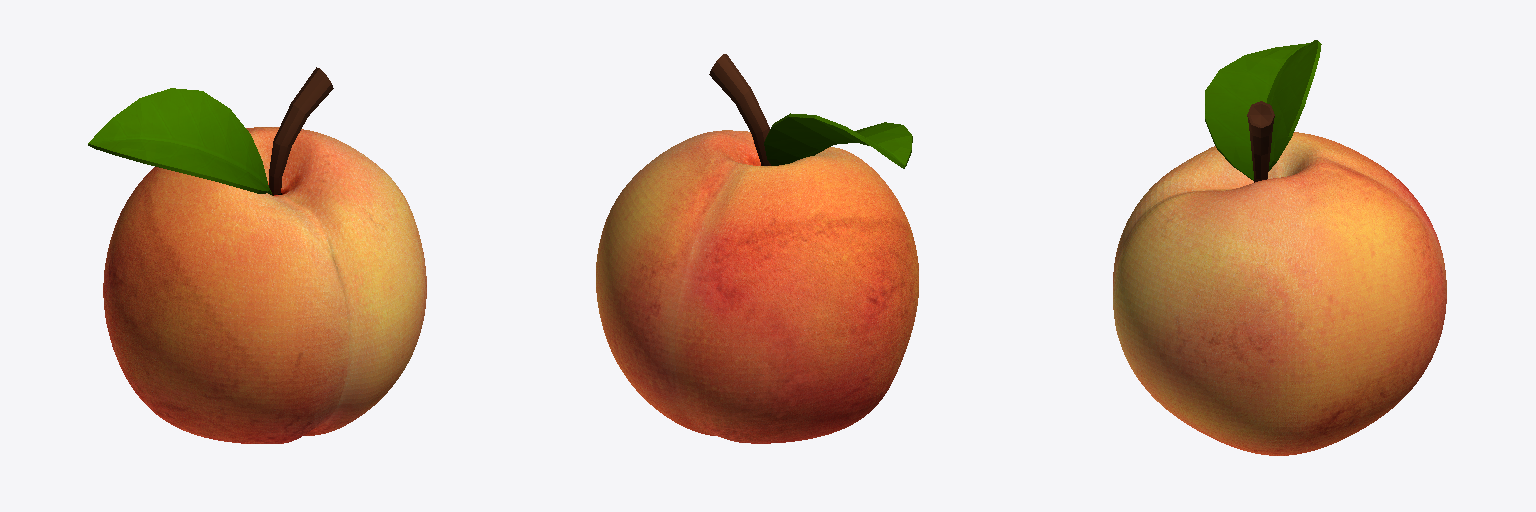
3 views of the same model, side by side, from view 1: azimuth 30°, elevation 25°; view 2: azimuth 150°, elevation 25°; view 3: azimuth 270°, elevation 25° (orthographic).
Parts seen in each view (by area): view 1: peach_whole; view 2: peach_whole; view 3: peach_whole.
Boxes of the visible parts, x1,y1,x2,y2 form: peach_whole: [88, 67, 426, 443]; peach_whole: [596, 54, 918, 443]; peach_whole: [1113, 40, 1446, 455].
Bounding box in the file's own units: 2.22 × 2.52 × 2.1.
Materials: 1 (1 with a texture image).